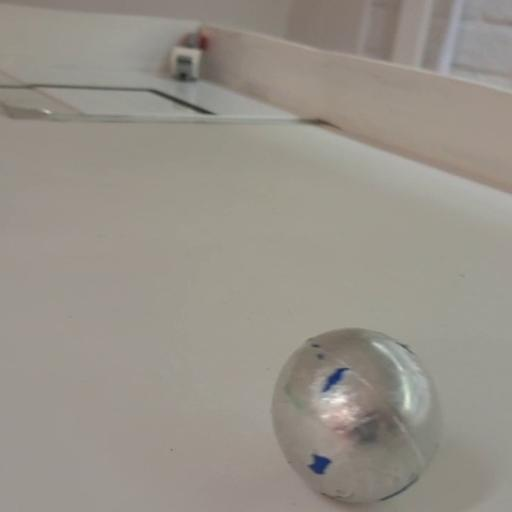alive: (266, 324, 441, 504)
